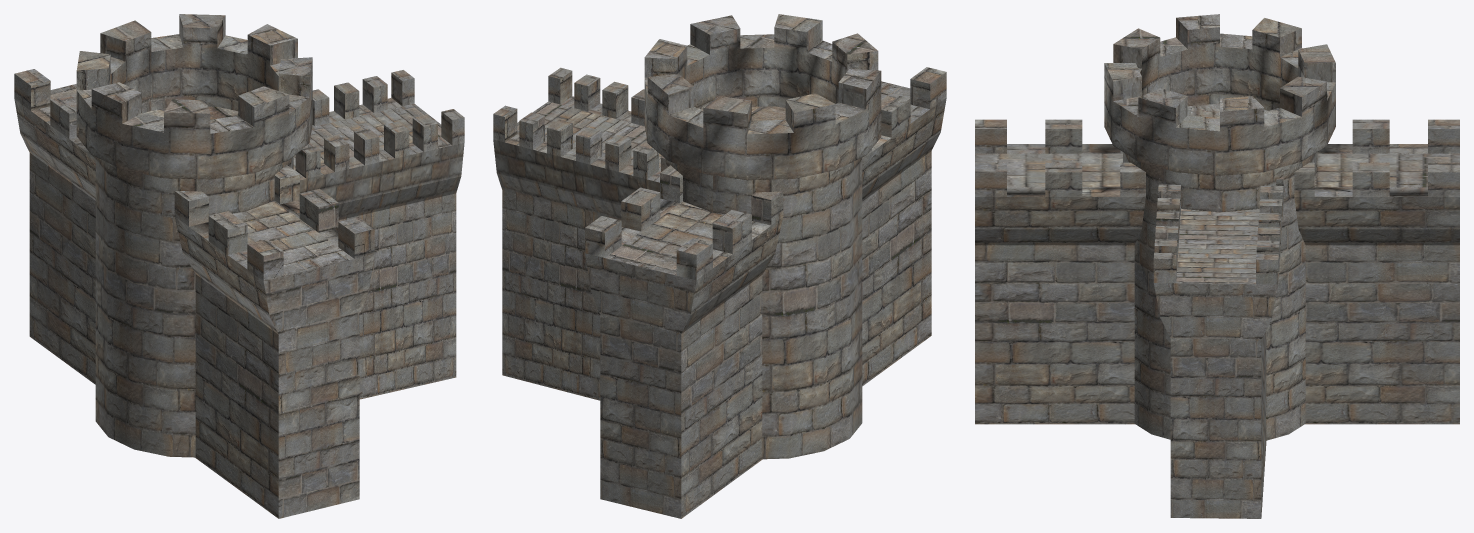
The model's file is Wall_T3.glb.
The picture shows the model from 3 angles, left to right: view 1: azimuth 30°, elevation 25°; view 2: azimuth 150°, elevation 25°; view 3: azimuth 270°, elevation 25°; orthographic projection. The views are drawn at different scales.
Parts seen in each view (by area): view 1: Wall_T3; view 2: Wall_T3; view 3: Wall_T3.
Part boxes in pixels (x1,y1,x2,y2): Wall_T3: (14,14,464,518); Wall_T3: (493,14,946,518); Wall_T3: (975,14,1459,518).
Bounding box in the file's own units: 1.06 × 1.04 × 1.34.
Materials: 3 (3 with a texture image).
